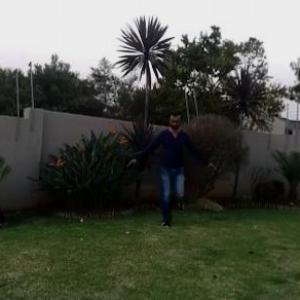land: (117, 104, 216, 229)
